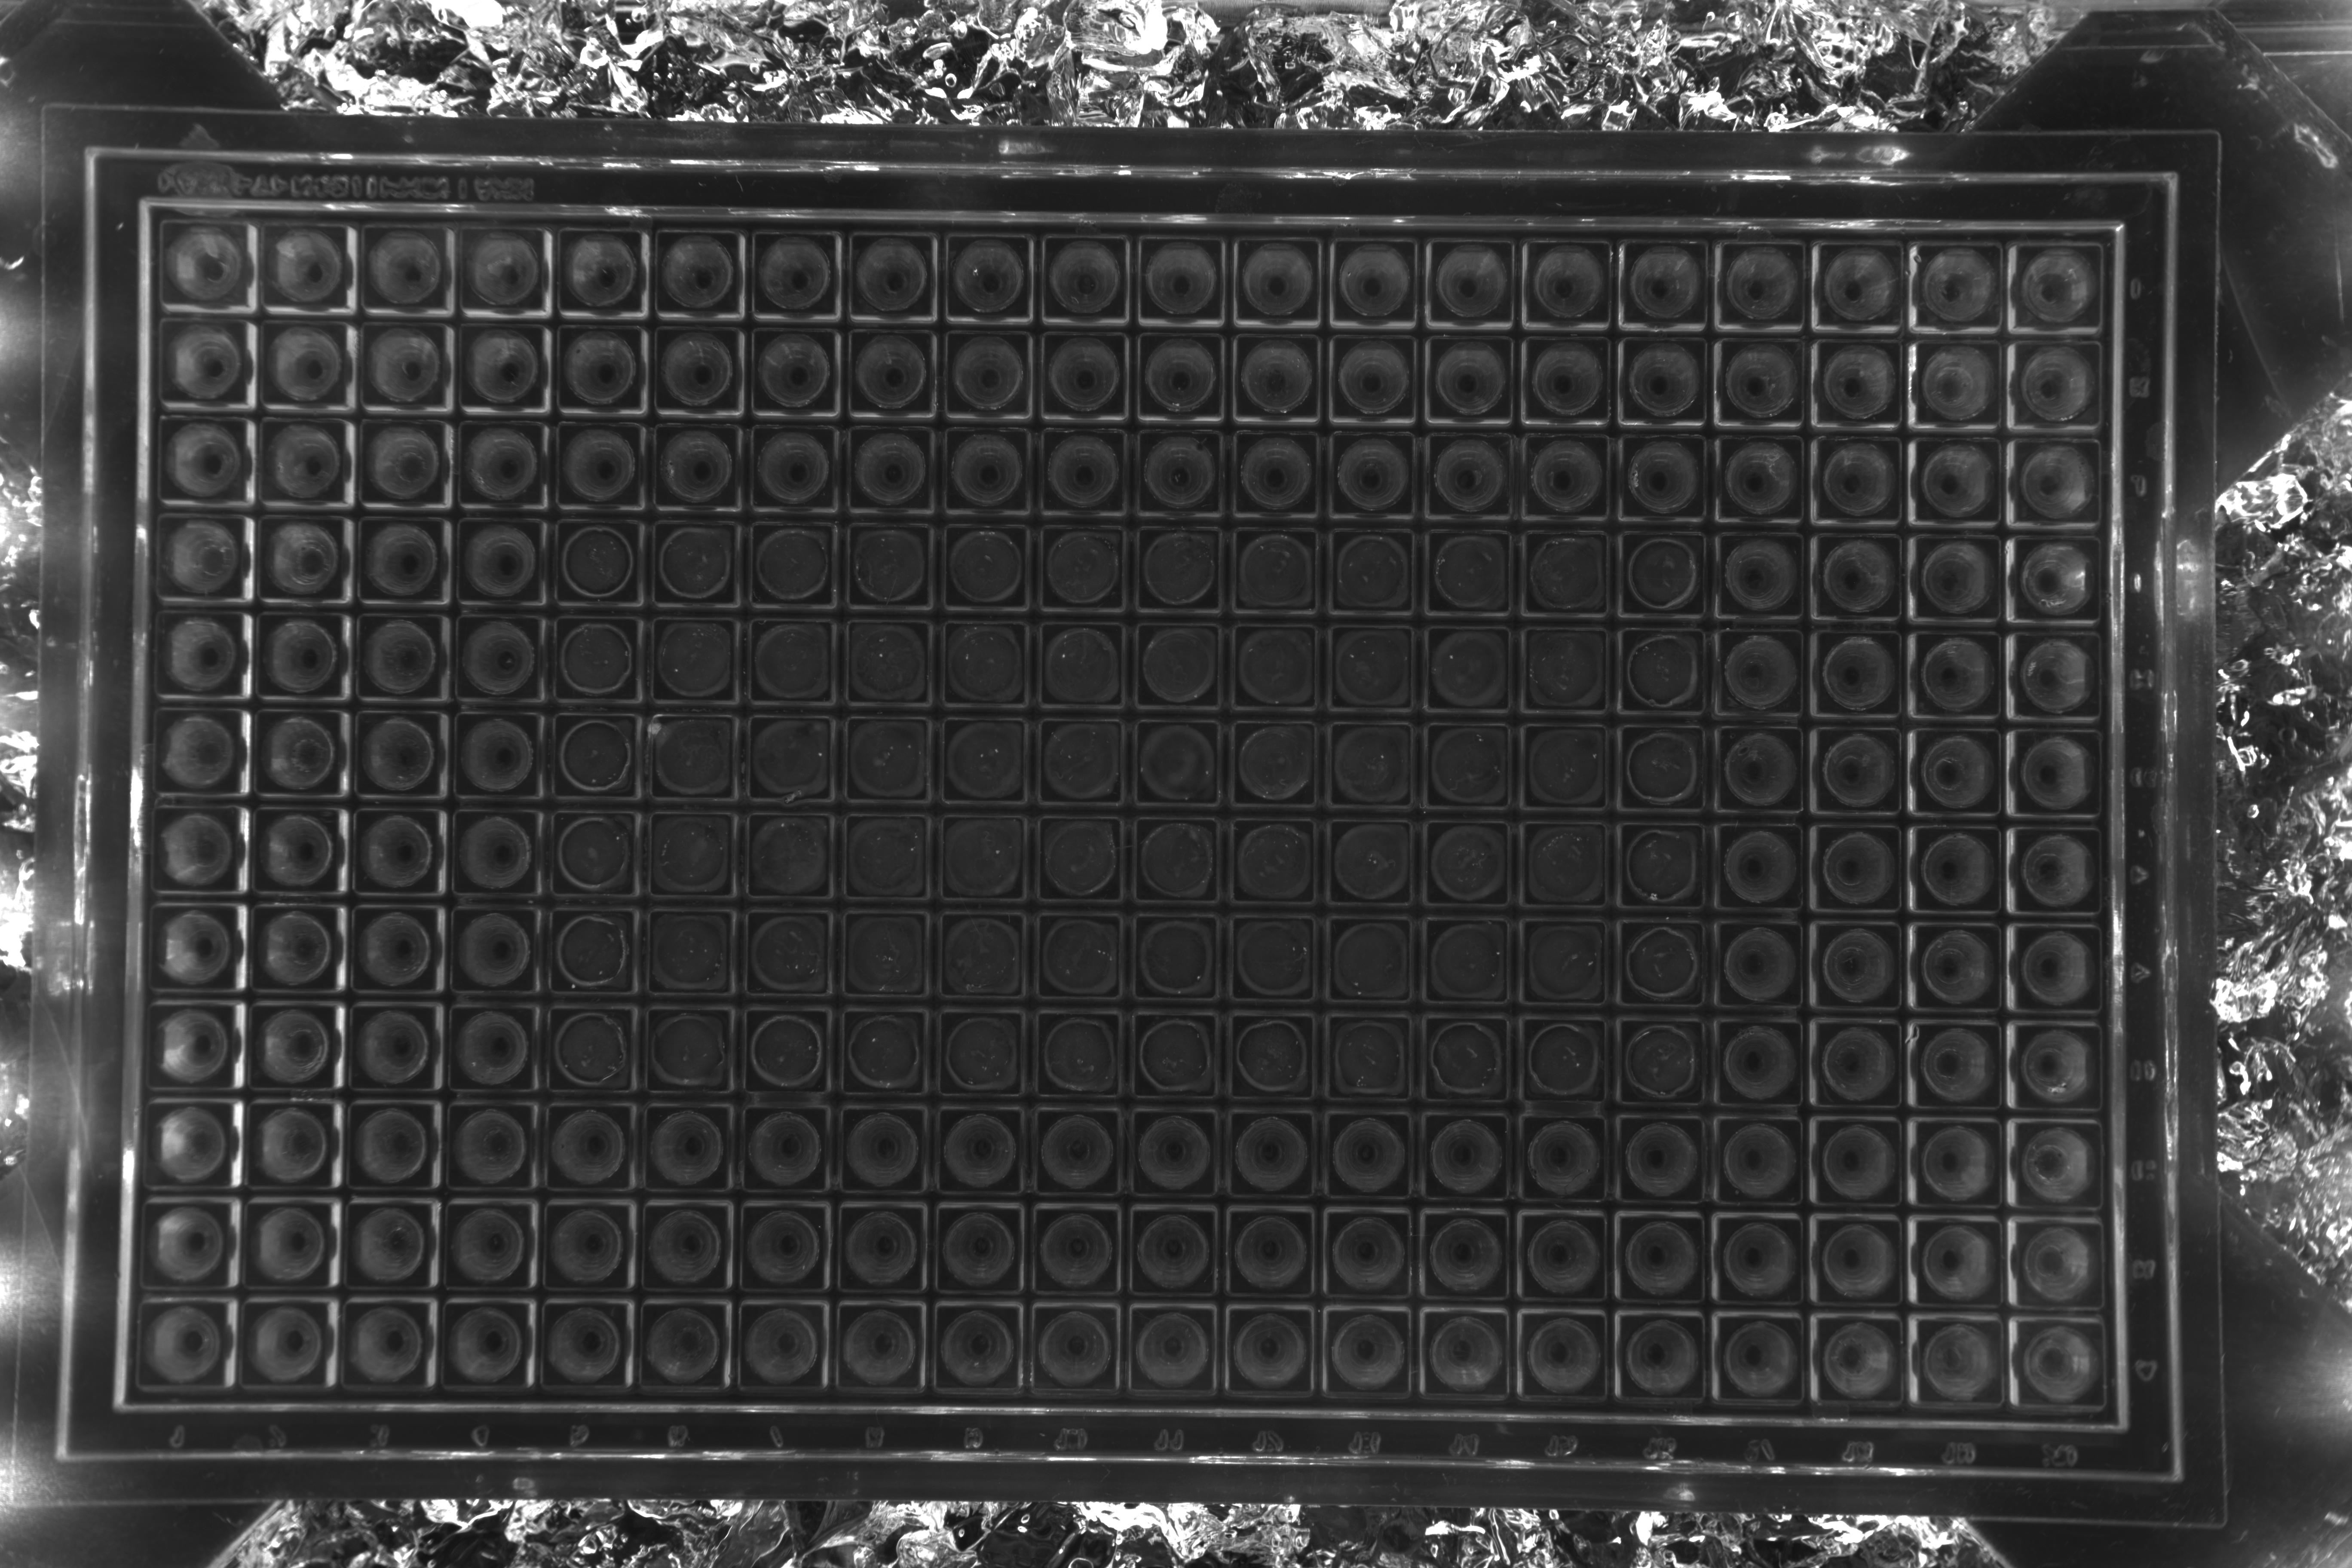WM_well: (297, 945, 387, 1032), (497, 362, 586, 450), (789, 364, 878, 451), (205, 262, 292, 350), (290, 1242, 378, 1330), (693, 558, 780, 646), (782, 1339, 870, 1426), (887, 269, 975, 357), (1176, 367, 1263, 455), (1272, 656, 1360, 744), (1466, 560, 1554, 647), (1563, 560, 1650, 647), (1564, 850, 1652, 938), (1566, 948, 1654, 1036), (1566, 1048, 1654, 1136), (1661, 366, 1748, 453), (1759, 464, 1846, 551), (1766, 1347, 1853, 1435), (1857, 366, 1944, 453), (1860, 756, 1948, 843), (1958, 658, 2046, 745), (1960, 854, 2047, 941), (2056, 560, 2144, 647)
